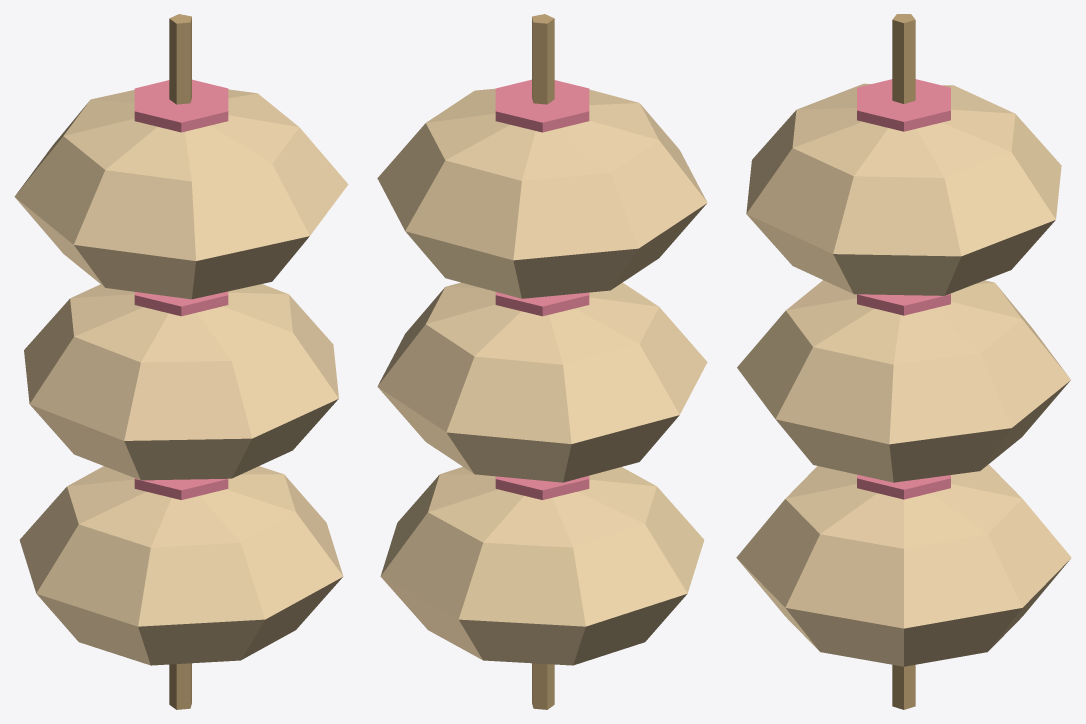
Rendered from Food_Odeng.obj.
3 views of the same model, side by side, from view 1: azimuth 30°, elevation 25°; view 2: azimuth 150°, elevation 25°; view 3: azimuth 270°, elevation 25° (orthographic).
Size of the model in its own units: 1.24 by 2.8 by 1.24.
